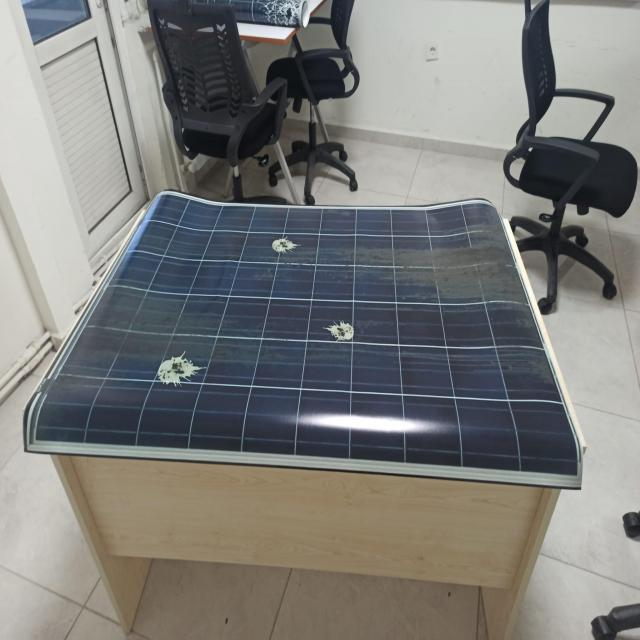faulty: (21, 186, 586, 490)
